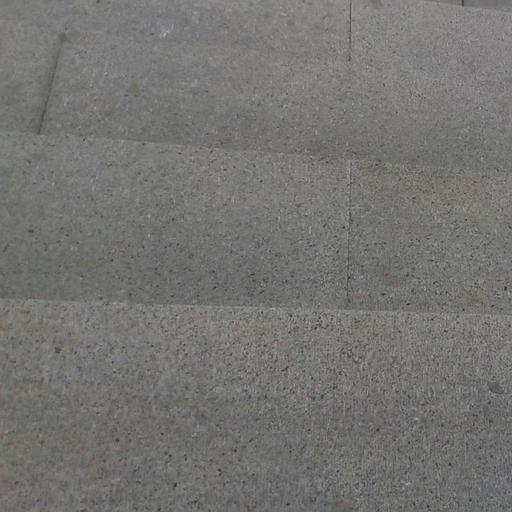stairs: (0, 0, 511, 511), (0, 300, 511, 511)
